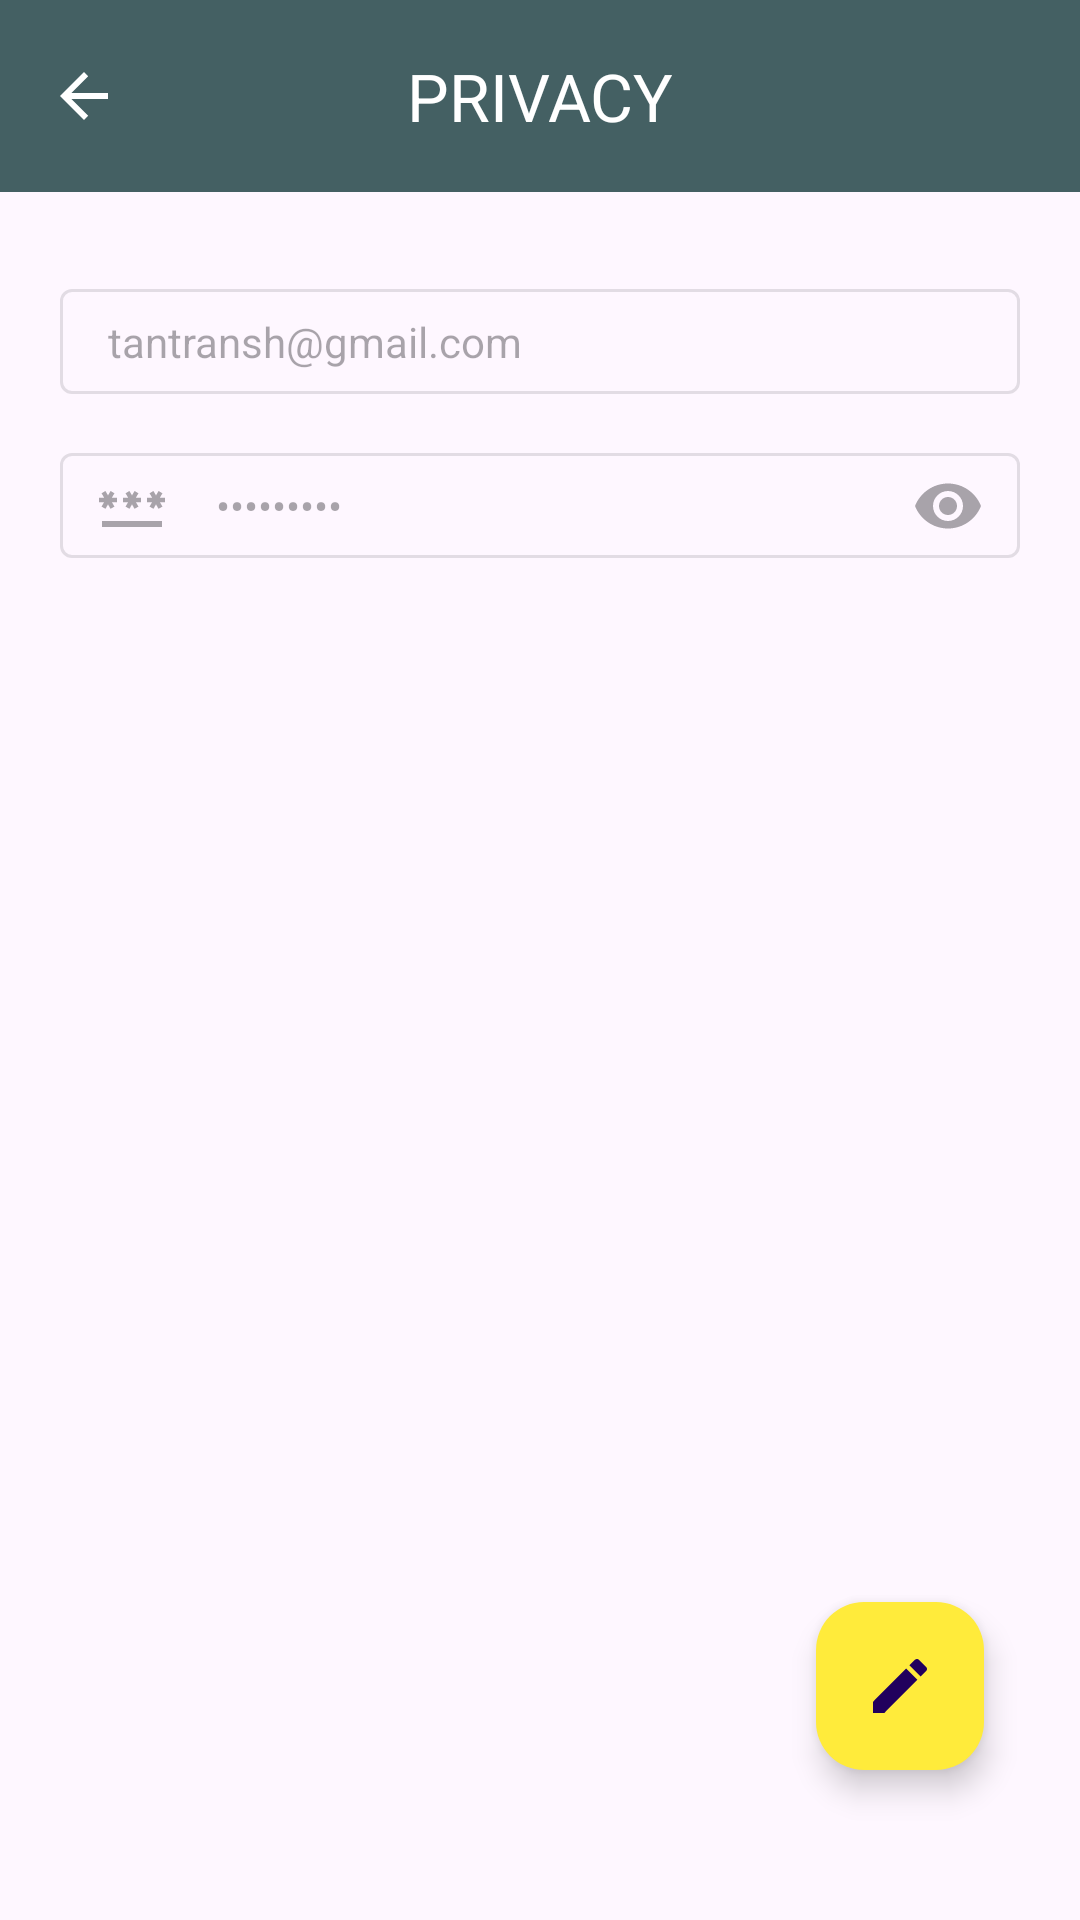

Icons on this 1080 x 1920 Android screen, each with its box as (x1, y1, x2, y2):
edit: (816, 1602, 984, 1770)
